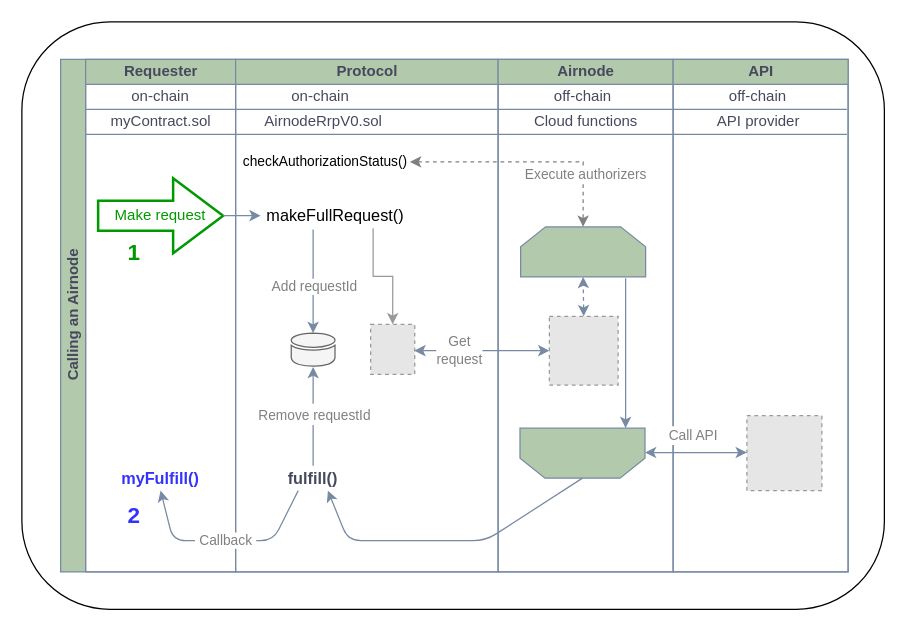
The diagram is 906 pixels wide and 631 high, and some of its shapes have lost their labels. Grey dashed boxes stand in for pictures. The centre of each missing label's shape, as x and y in pixels:
Generate Response: pixel 582 452
Run cycle: pixel 582 251
